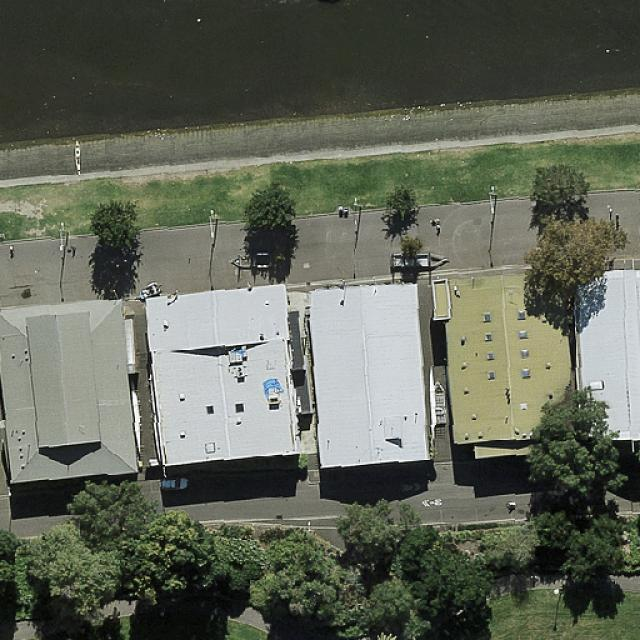Bike-Symbols: (400, 481, 416, 493), (429, 498, 442, 508)
